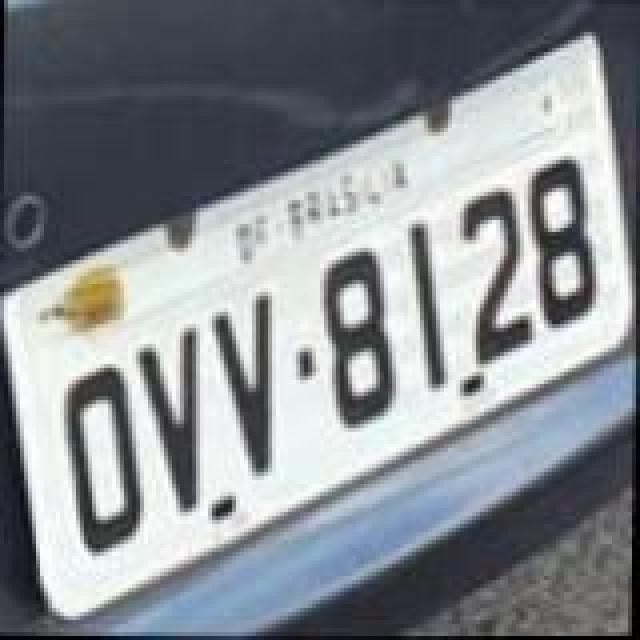1: (404, 216, 456, 392)
2: (454, 190, 534, 374)
8: (316, 246, 400, 430), (520, 152, 600, 328)
O: (64, 362, 152, 558)
V: (130, 326, 206, 518), (204, 288, 276, 480)
